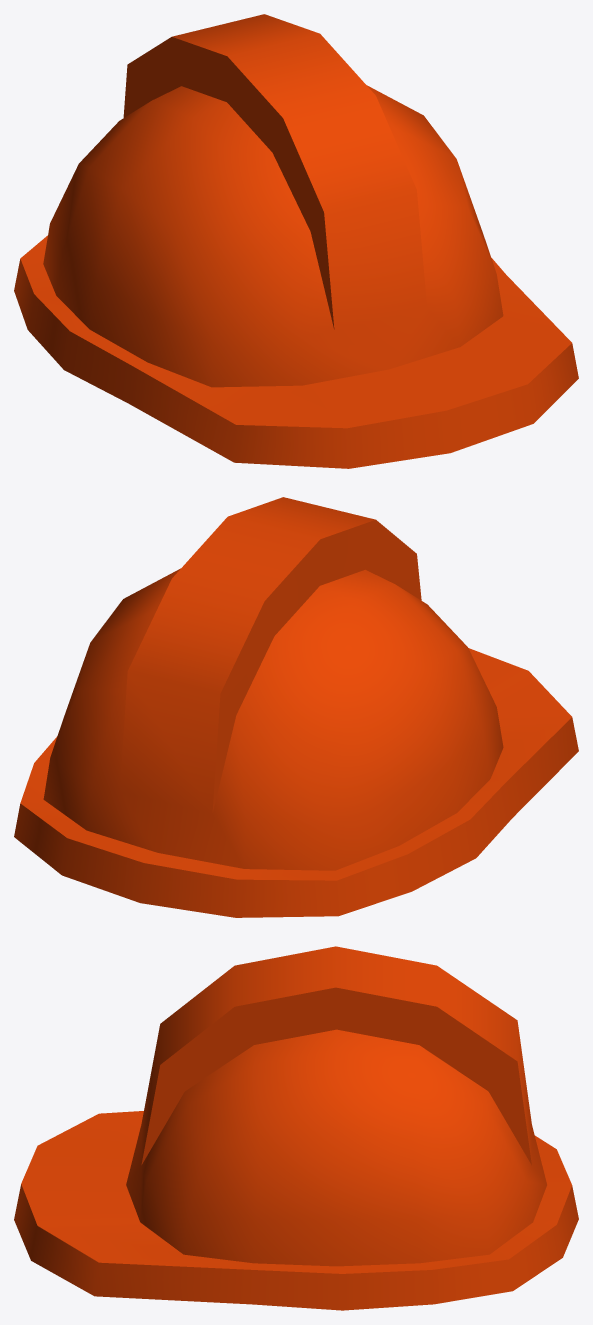
Rendered from Head.fbx.
3 views of the same model, one above another, from view 1: azimuth 30°, elevation 25°; view 2: azimuth 150°, elevation 25°; view 3: azimuth 270°, elevation 25° (orthographic). The views are drawn at different scales.
Parts seen in each view (by area): view 1: Cube.002; view 2: Cube.002; view 3: Cube.002.
Boxes of the visible parts, x1=… form: Cube.002: x1=14, y1=14, x2=578, y2=468; Cube.002: x1=14, y1=497, x2=578, y2=917; Cube.002: x1=14, y1=946, x2=578, y2=1310.
Bounding box in the file's own units: 55.86 × 37.53 × 72.91.
